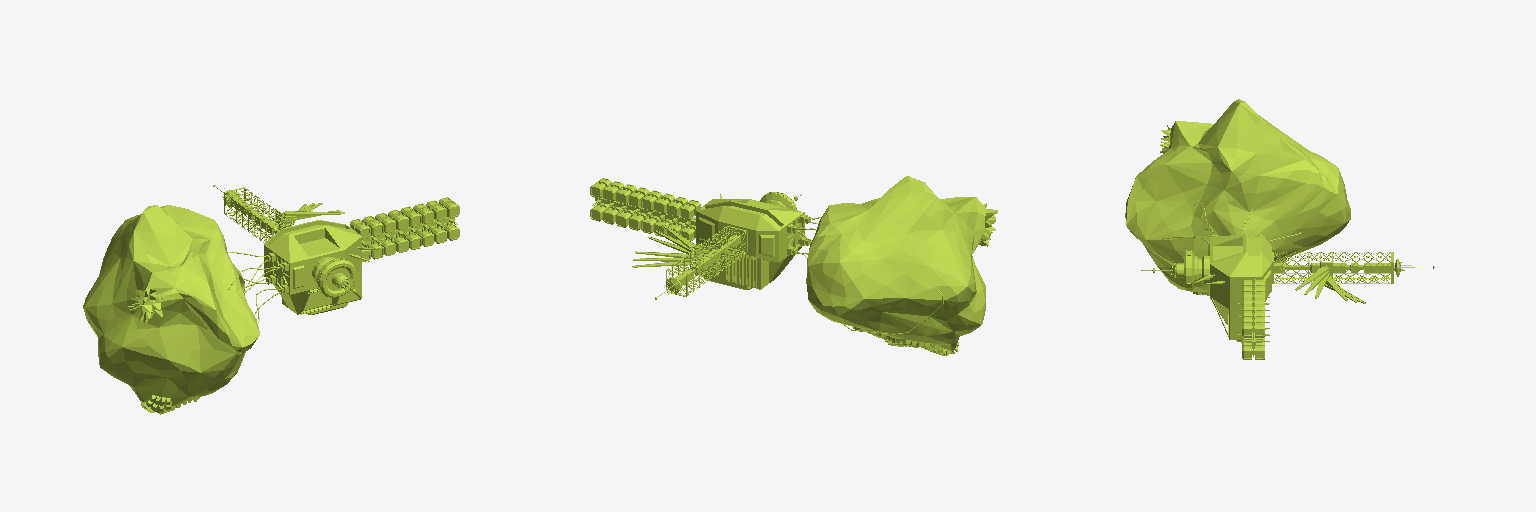
Rendered from eezo.obj.
The picture shows the model from 3 angles: view 1: azimuth 30°, elevation 25°; view 2: azimuth 150°, elevation 25°; view 3: azimuth 270°, elevation 25°; orthographic projection.
Parts seen in each view (by area): view 1: eezo; view 2: eezo; view 3: eezo.
Boxes of the visible parts, box(x1,y1,x2,y2) form: eezo: box(83, 185, 459, 414); eezo: box(590, 176, 997, 355); eezo: box(1125, 99, 1434, 359).
Bounding box in the file's own units: 287 × 140 × 207.